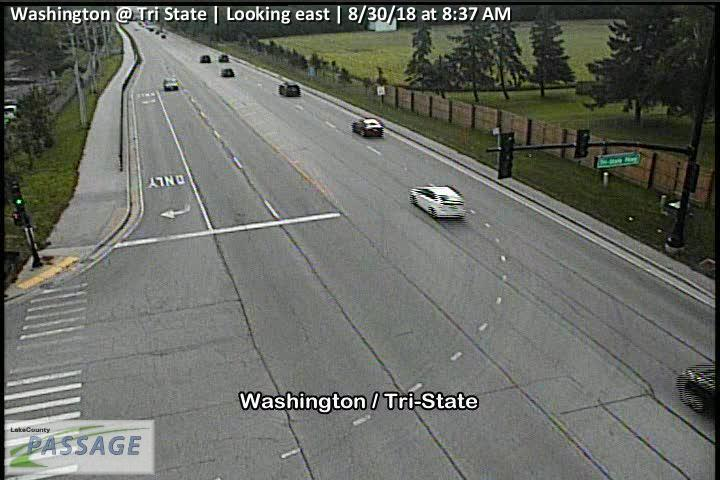SUV: (278, 80, 302, 98), (220, 67, 234, 78), (199, 54, 211, 64), (217, 54, 229, 63)
Sedan: (409, 183, 466, 219), (351, 116, 385, 140), (162, 77, 179, 92)
